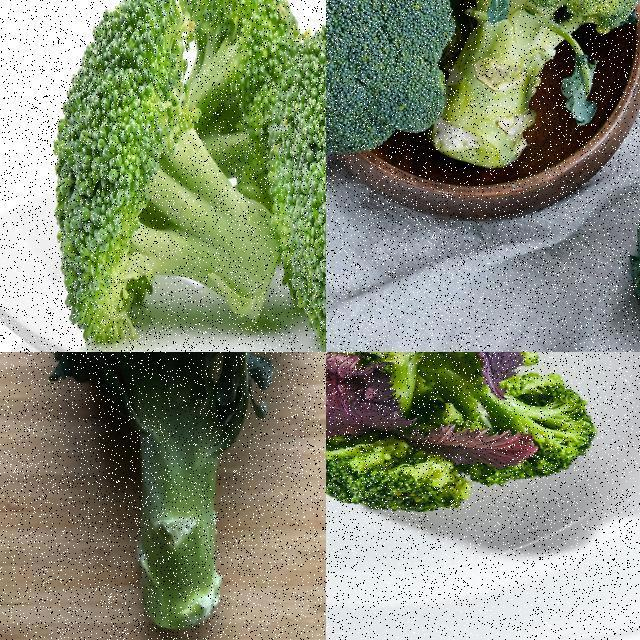broccoli: (15, 352, 325, 639), (54, 0, 280, 350), (428, 0, 639, 166), (160, 0, 303, 153), (416, 366, 592, 490), (265, 12, 325, 351), (326, 0, 452, 158), (326, 428, 468, 510), (326, 352, 465, 429)
